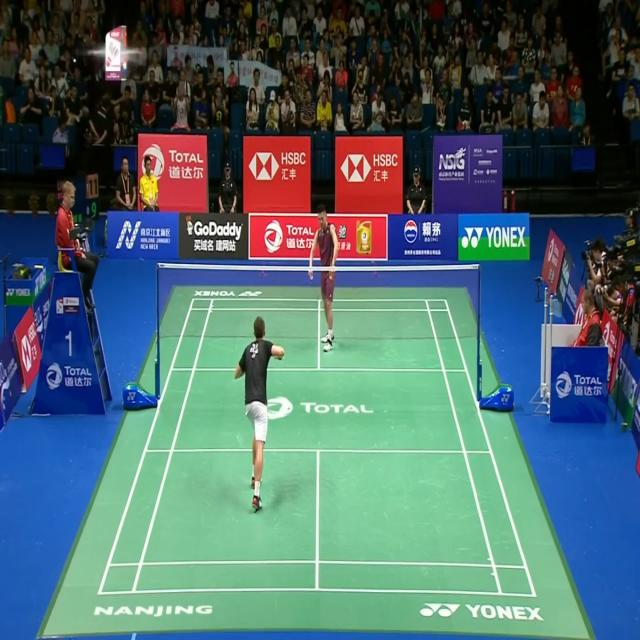Player1: (231, 311, 286, 517)
Player2: (306, 204, 343, 359)
